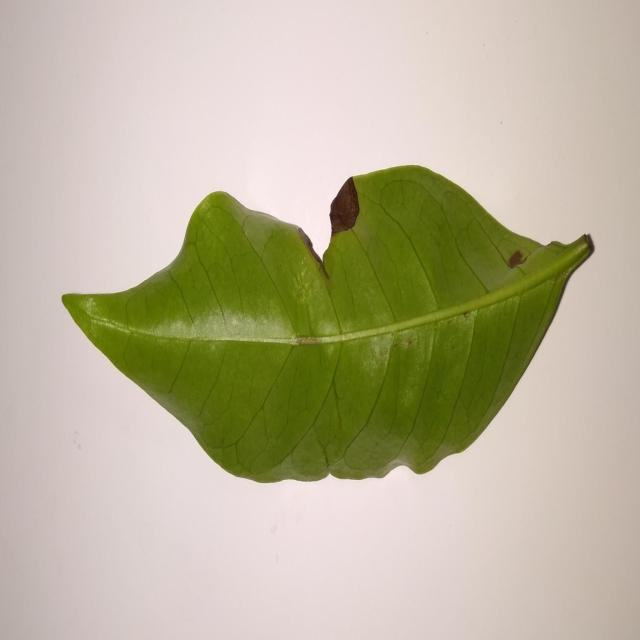Enfermedad-Antracnosis: (59, 166, 596, 488)
